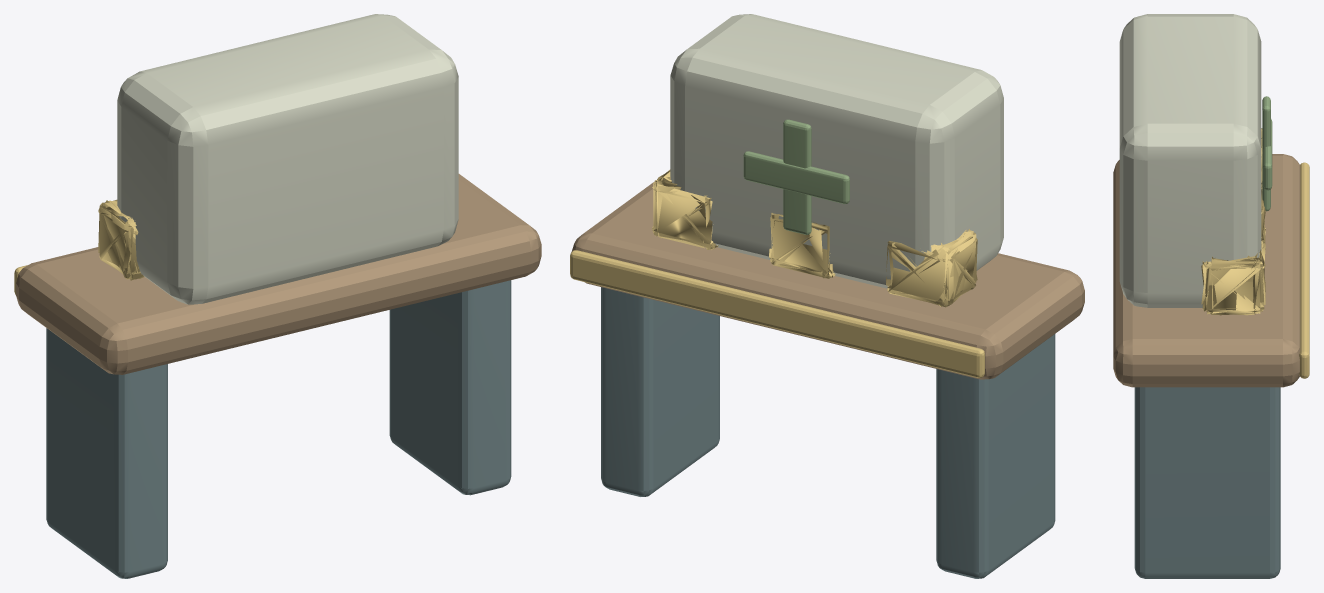
Rendered from station_recovery.glb.
3 renders of one model, left to right at view 1: azimuth 30°, elevation 25°; view 2: azimuth 150°, elevation 25°; view 3: azimuth 270°, elevation 25°, orthographic. The views are drawn at different scales.
Parts seen in each view (by area): view 1: Surface_WorldIvory, Surface_WorldMetal, Surface_WorldWood, SupplyToken0; view 2: Surface_WorldIvory, Surface_WorldMetal, Surface_WorldWood, Surface_WorldBrass, Surface_WorldOlive, SupplyToken0, SupplyToken2, SupplyToken1; view 3: Surface_WorldIvory, Surface_WorldMetal, Surface_WorldWood, SupplyToken2, Surface_WorldBrass, Surface_WorldOlive.
Boxes of the visible parts, x1=… form: Surface_WorldIvory: x1=117, y1=14, x2=458, y2=304; Surface_WorldMetal: x1=46, y1=280, x2=511, y2=578; Surface_WorldWood: x1=16, y1=174, x2=541, y2=374; SupplyToken0: x1=98, y1=199, x2=144, y2=280; Surface_WorldIvory: x1=670, y1=14, x2=1003, y2=288; Surface_WorldMetal: x1=601, y1=287, x2=1055, y2=578; Surface_WorldWood: x1=571, y1=181, x2=1084, y2=379; Surface_WorldBrass: x1=570, y1=250, x2=984, y2=377; Surface_WorldOlive: x1=743, y1=119, x2=849, y2=234; SupplyToken0: x1=886, y1=229, x2=977, y2=307; SupplyToken2: x1=652, y1=169, x2=718, y2=249; SupplyToken1: x1=769, y1=213, x2=835, y2=278; Surface_WorldIvory: x1=1119, y1=14, x2=1261, y2=307; Surface_WorldMetal: x1=1134, y1=387, x2=1280, y2=578; Surface_WorldWood: x1=1113, y1=154, x2=1300, y2=387; SupplyToken2: x1=1201, y1=237, x2=1265, y2=315; Surface_WorldBrass: x1=1299, y1=162, x2=1309, y2=378; Surface_WorldOlive: x1=1262, y1=96, x2=1272, y2=211.
Bounding box in the file's own units: 1.1 × 1.09 × 0.4575.
